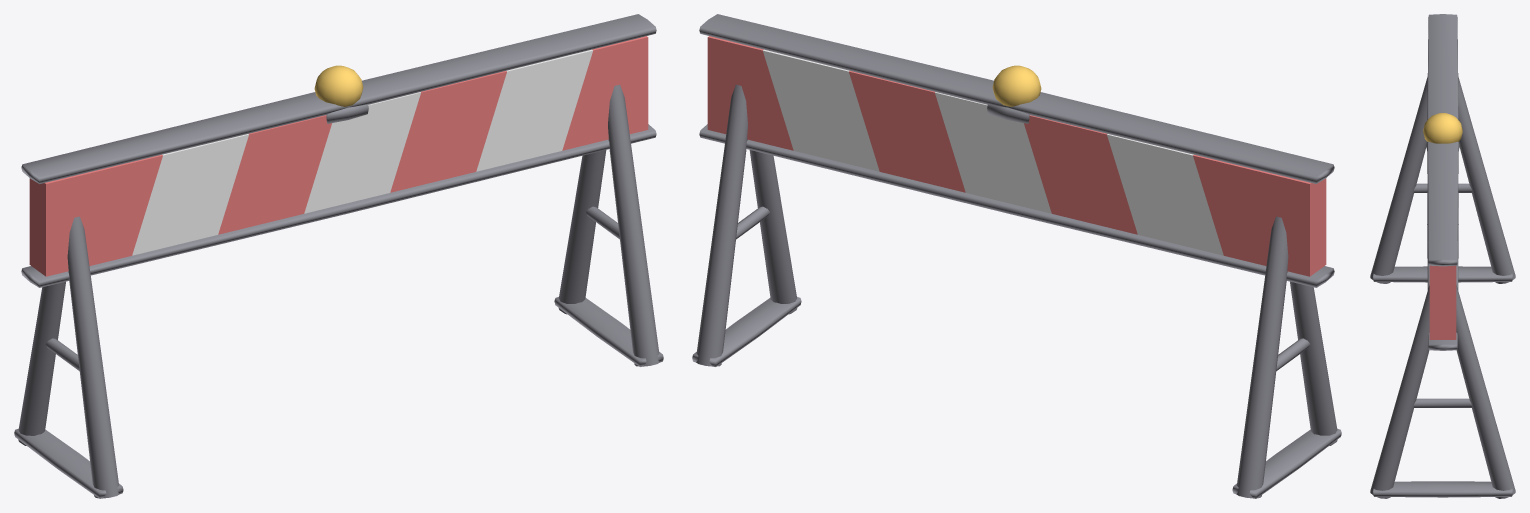
Rendered from SkateBarrier.glb.
3 views of the same model, side by side, from view 1: azimuth 30°, elevation 25°; view 2: azimuth 150°, elevation 25°; view 3: azimuth 270°, elevation 25° (orthographic). The views are drawn at different scales.
Parts seen in each view (by area): view 1: Legs, Red, White, Lamp; view 2: Legs, Red, White, Lamp; view 3: Legs, Red, Lamp.
Boxes of the visible parts, x1,y1,x2,y2 form: Legs: (14, 14, 663, 498); Red: (29, 36, 648, 276); White: (132, 49, 592, 255); Lamp: (314, 65, 363, 106); Legs: (692, 14, 1341, 498); Red: (707, 36, 1326, 276); White: (763, 49, 1223, 255); Lamp: (992, 65, 1041, 106); Legs: (1370, 14, 1515, 498); Red: (1429, 265, 1456, 339); Lamp: (1423, 113, 1462, 143).
Size of the model in its own units: 7 by 3.63 by 1.74.
